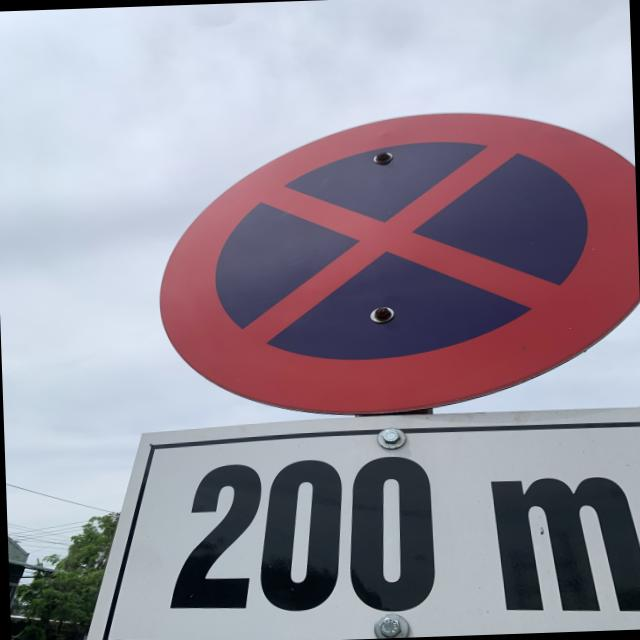Cam_Dung_Va_Dau_Xe: (155, 104, 640, 421)
